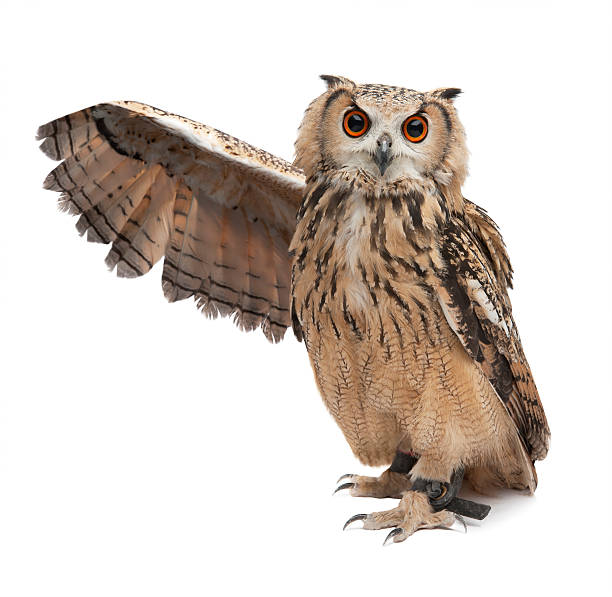Bird: (32, 64, 554, 544)
